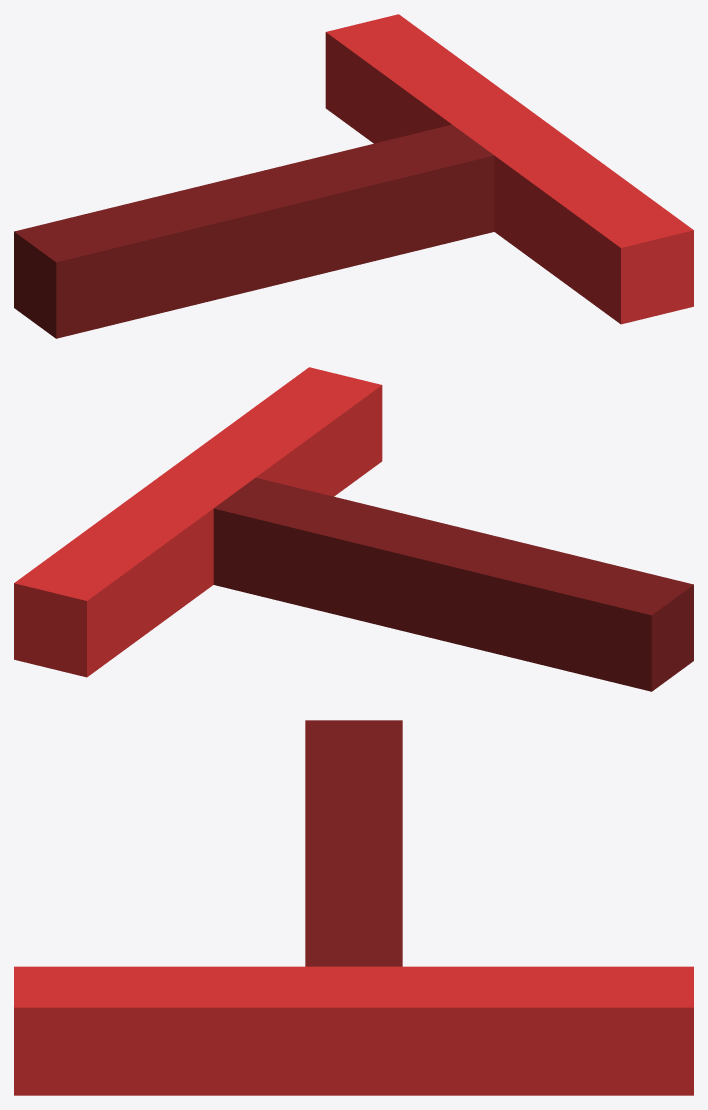
File: sword-0.obj
The picture shows the model from 3 angles, top to bottom: view 1: azimuth 30°, elevation 25°; view 2: azimuth 150°, elevation 25°; view 3: azimuth 270°, elevation 25°; orthographic projection. The views are drawn at different scales.
Size of the model in its own units: 0.7 by 0.1 by 0.7.
1 material, 1 textured.
